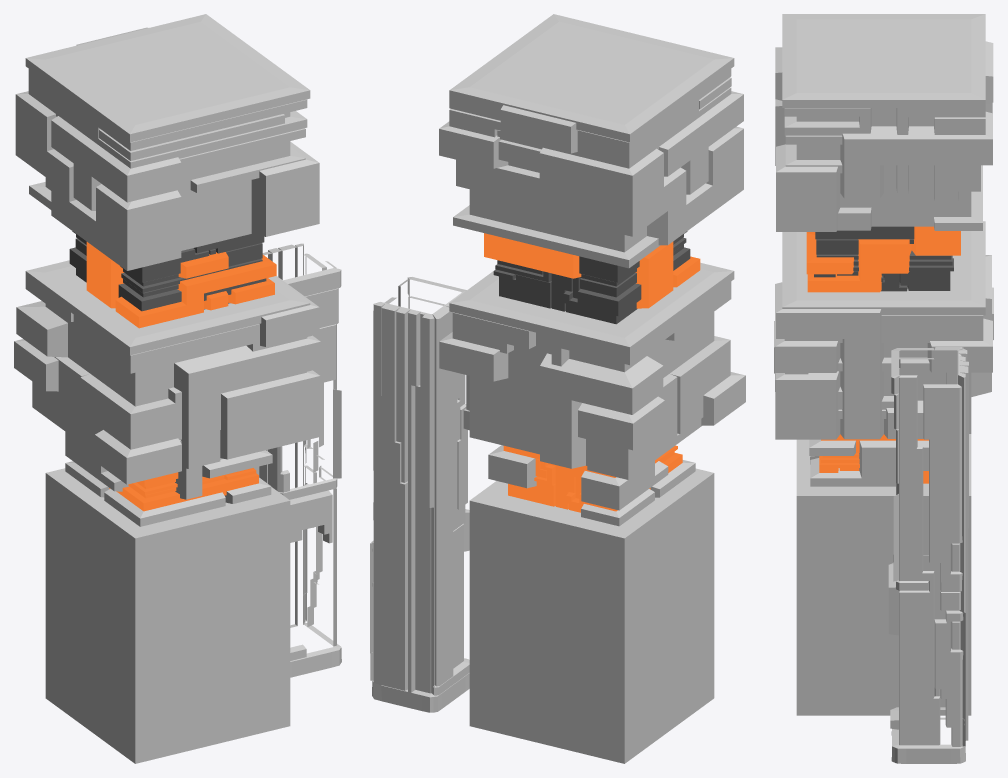
File: FragmentTowerBig.glb
3 renders of one model, left to right at view 1: azimuth 30°, elevation 25°; view 2: azimuth 150°, elevation 25°; view 3: azimuth 270°, elevation 25°, orthographic. The views are drawn at different scales.
Parts seen in each view (by area): view 1: Cube.011, Cube.011_RLExtr.004, Cube.011_RLExtr.006, Cube.011_RLExtr.007, Cube.011_RLExtr.005, Cube.023_RLExtr, Cube.011_RLExtr.002, Cube.011_RLExtr, Cube.011_RLExtr.003, Cube.011_RLExtr.001; view 2: Cube.011, Cube.023_RLExtr, Cube.011_RLExtr.006, Cube.011_RLExtr.007, Cube.011_RLExtr.005, Cube.011_RLExtr.004, Cube.011_RLExtr.003, Cube.011_RLExtr, Cube.011_RLExtr.002, Cube.011_RLExtr.001; view 3: Cube.011, Cube.023_RLExtr, Cube.011_RLExtr.004, Cube.011_RLExtr.007, Cube.011_RLExtr.006, Cube.011_RLExtr.005, Cube.011_RLExtr.002, Cube.011_RLExtr.003, Cube.011_RLExtr, Cube.011_RLExtr.001.
Part boxes in pixels (<box>): Cube.011: <box>45,21,290,763</box>; Cube.011_RLExtr.004: <box>14,276,320,484</box>; Cube.011_RLExtr.006: <box>15,27,319,270</box>; Cube.011_RLExtr.007: <box>25,14,310,209</box>; Cube.011_RLExtr.005: <box>25,260,310,452</box>; Cube.023_RLExtr: <box>254,243,341,677</box>; Cube.011_RLExtr.002: <box>86,242,276,328</box>; Cube.011_RLExtr: <box>65,432,272,526</box>; Cube.011_RLExtr.003: <box>69,231,266,311</box>; Cube.011_RLExtr.001: <box>109,468,258,511</box>; Cube.011: <box>469,21,714,763</box>; Cube.023_RLExtr: <box>370,277,469,712</box>; Cube.011_RLExtr.006: <box>439,91,743,245</box>; Cube.011_RLExtr.007: <box>449,14,734,268</box>; Cube.011_RLExtr.005: <box>449,262,734,479</box>; Cube.011_RLExtr.004: <box>439,332,745,468</box>; Cube.011_RLExtr.003: <box>493,231,690,324</box>; Cube.011_RLExtr: <box>488,445,695,526</box>; Cube.011_RLExtr.002: <box>484,233,700,308</box>; Cube.011_RLExtr.001: <box>503,445,682,512</box>; Cube.011: <box>796,19,971,715</box>; Cube.023_RLExtr: <box>888,347,968,763</box>; Cube.011_RLExtr.004: <box>774,255,993,439</box>; Cube.011_RLExtr.007: <box>782,14,985,230</box>; Cube.011_RLExtr.006: <box>775,41,993,231</box>; Cube.011_RLExtr.005: <box>782,221,985,418</box>; Cube.011_RLExtr.002: <box>806,226,960,292</box>; Cube.011_RLExtr.003: <box>814,226,953,291</box>; Cube.011_RLExtr: <box>809,439,928,486</box>; Cube.011_RLExtr.001: <box>819,434,928,483</box>.
Bounding box in the file's own units: 8.42 × 18.45 × 5.9.
